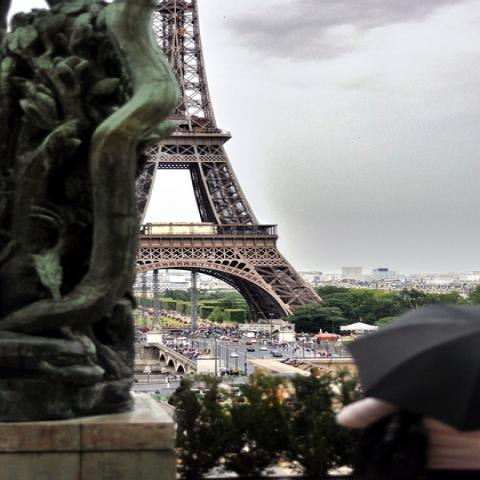car: (176, 332, 227, 396), (273, 352, 283, 357), (231, 352, 239, 358), (247, 347, 255, 352), (261, 355, 271, 359), (204, 331, 217, 334), (260, 346, 267, 351), (270, 350, 278, 354), (223, 336, 231, 340), (133, 377, 138, 383), (232, 338, 239, 342), (251, 340, 258, 344), (246, 341, 253, 345), (306, 349, 312, 352)
